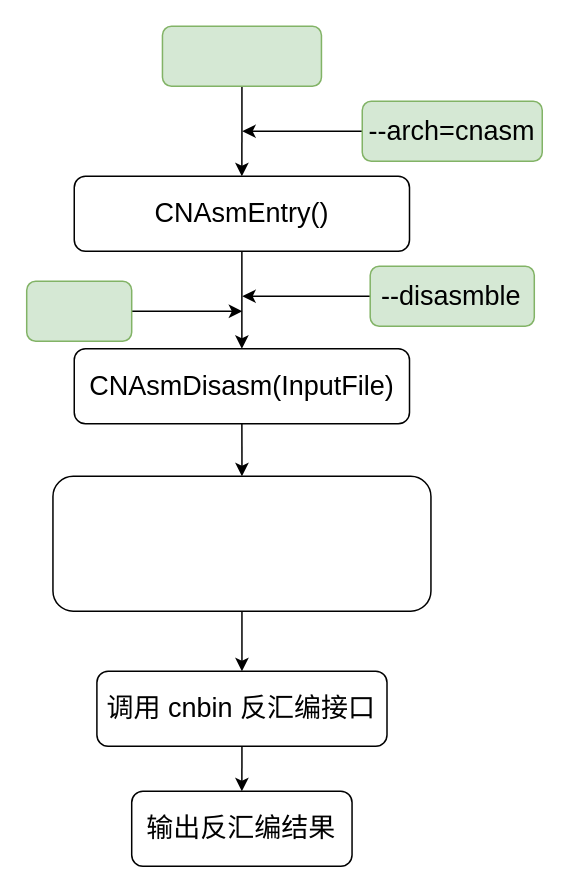
Some shapes in this 569 by 893 pixel diagram are drawn without their labels. The shapes that lost their labels are listed below. From the top down, each one's centre as x and y in pixels, then its label:
At point 241,55: "cnmc".
At point 78,310: "cnbin".
At point 241,543: "调用cnbin 接口获取 text section 的 binary，size， addr".
